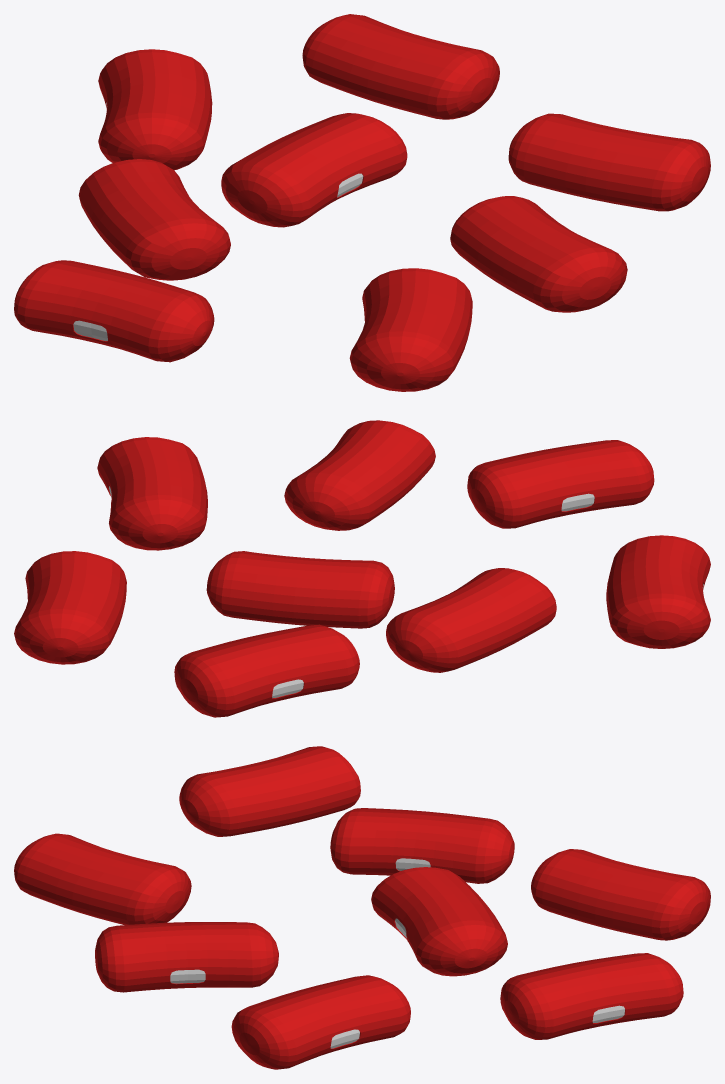
The model's file is kidney_bean.glb.
3 views of the same model, one above another, from view 1: azimuth 30°, elevation 25°; view 2: azimuth 150°, elevation 25°; view 3: azimuth 270°, elevation 25° (orthographic). The views are drawn at different scales.
Parts seen in each view (by area): view 1: Object_4, Object_5; view 2: Object_4, Object_5; view 3: Object_4, Object_5.
Part boxes in pixels (left/top/right/bottom): Object_4: left=14, top=14, right=710, bottom=391; Object_5: left=73, top=102, right=363, bottom=340; Object_4: left=14, top=420, right=710, bottom=717; Object_5: left=109, top=486, right=703, bottom=698; Object_4: left=14, top=746, right=710, bottom=1069; Object_5: left=170, top=858, right=624, bottom=1048.
Size of the model in its own units: 505584 by 41267 by 501569.
